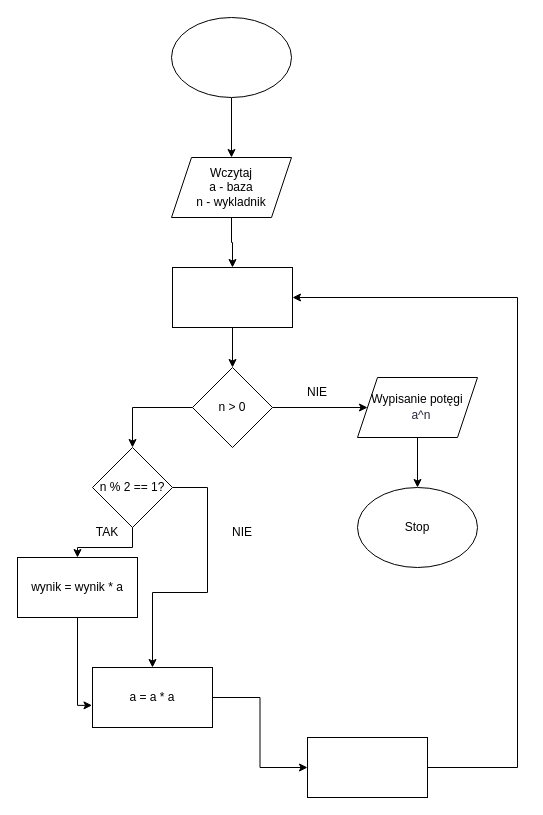
This 543x815 diagram has some shape labels left out. Here are the shapes that lost their labels. From the top down, the box of each, then its label:
(170, 16, 292, 98): START
(172, 266, 292, 328): wynik <- 1
(306, 736, 428, 798): n = n / 2
